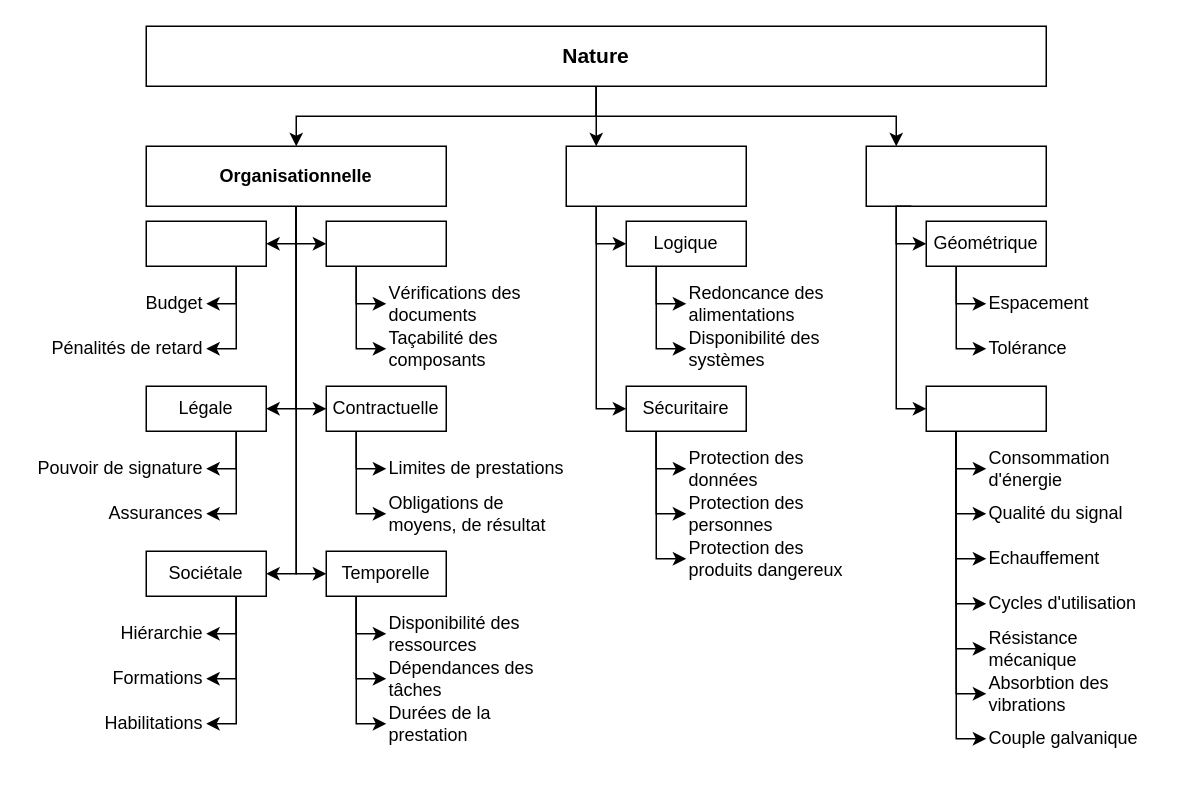
This 1191x788 diagram has some shape labels left out. Here are the shapes that lost their labels. From the top down, the centre of each, then its label:
At pixel 655 175: "Fonctionnelle".
At pixel 955 175: "Technique".
At pixel 205 243: "Financière".
At pixel 385 243: "Protocolaire".
At pixel 985 408: "Physique".
